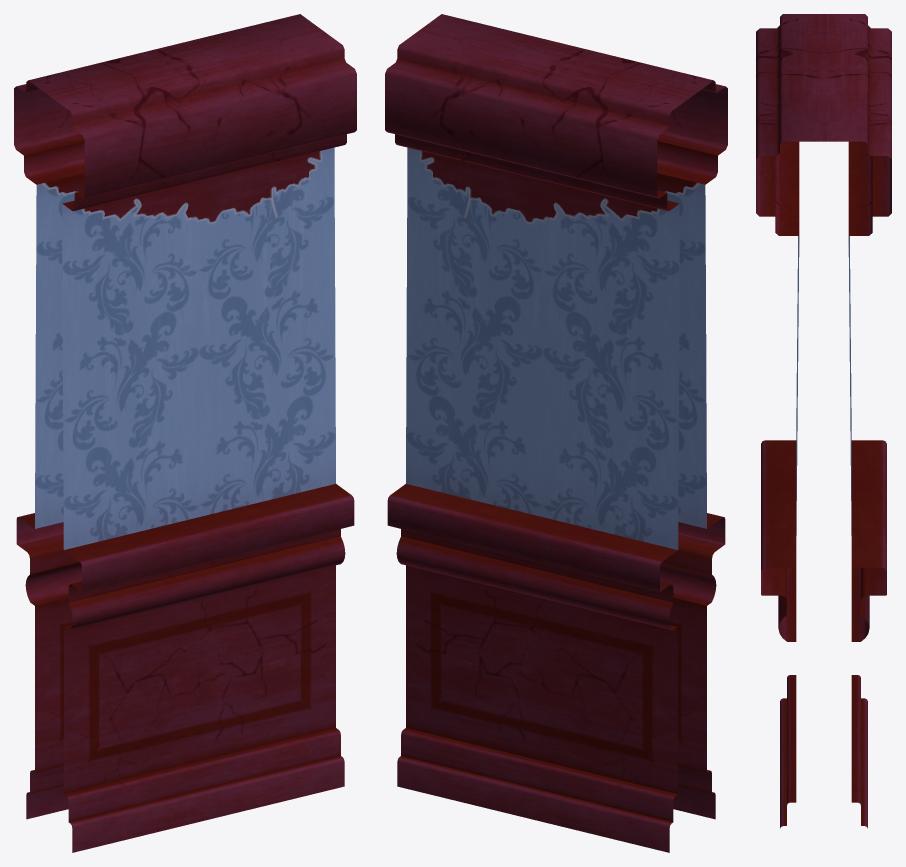
The model's file is Wall_straight_4.fbx.
The picture shows the model from 3 angles, left to right: view 1: azimuth 30°, elevation 25°; view 2: azimuth 150°, elevation 25°; view 3: azimuth 270°, elevation 25°; orthographic projection. The views are drawn at different scales.
Visible parts, largest first — view 1: Wall_Straight.008; view 2: Wall_Straight.008; view 3: Wall_Straight.008.
Part boxes in pixels (x1=…): Wall_Straight.008: x1=14, y1=14, x2=356, y2=852; Wall_Straight.008: x1=385, y1=14, x2=727, y2=852; Wall_Straight.008: x1=756, y1=14, x2=891, y2=828.
Bounding box in the file's own units: 1 × 2.6 × 0.4491.
